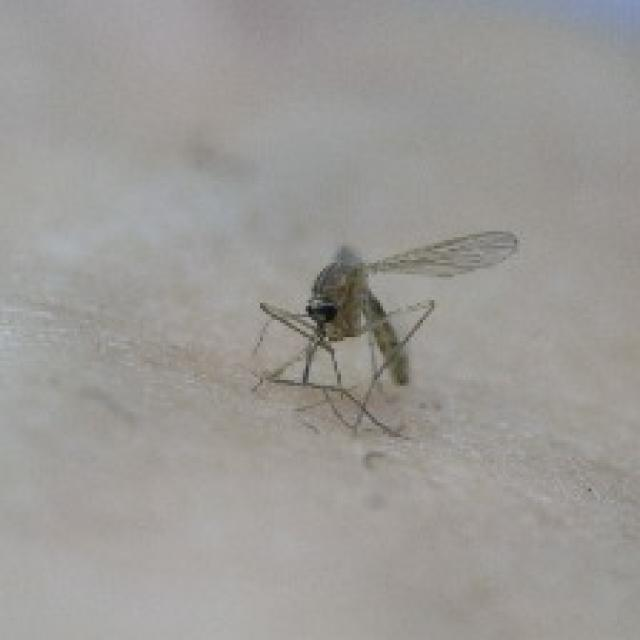culex: (229, 209, 532, 479)
